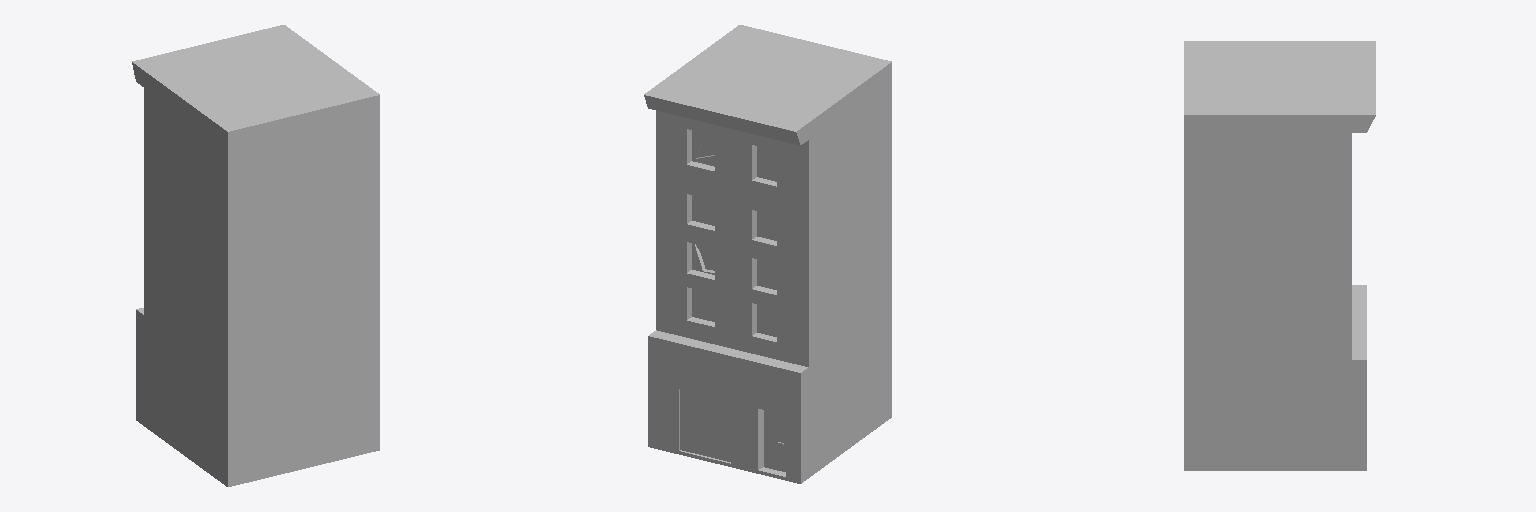
Rendered from Building Tall.obj.
The picture shows the model from 3 angles: view 1: azimuth 30°, elevation 25°; view 2: azimuth 150°, elevation 25°; view 3: azimuth 270°, elevation 25°; orthographic projection.
Visible parts, largest first — view 1: pCube4; view 2: pCube4; view 3: pCube4.
Boxes of the visible parts, <box> form: pCube4: <box>132,25,379,486</box>; pCube4: <box>644,25,891,483</box>; pCube4: <box>1184,41,1375,470</box>.
Bounding box in the file's own units: 11.29 × 25.16 × 12.33.